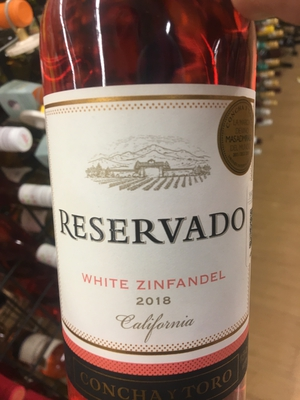reservado white zinfandel: (35, 3, 259, 400)
